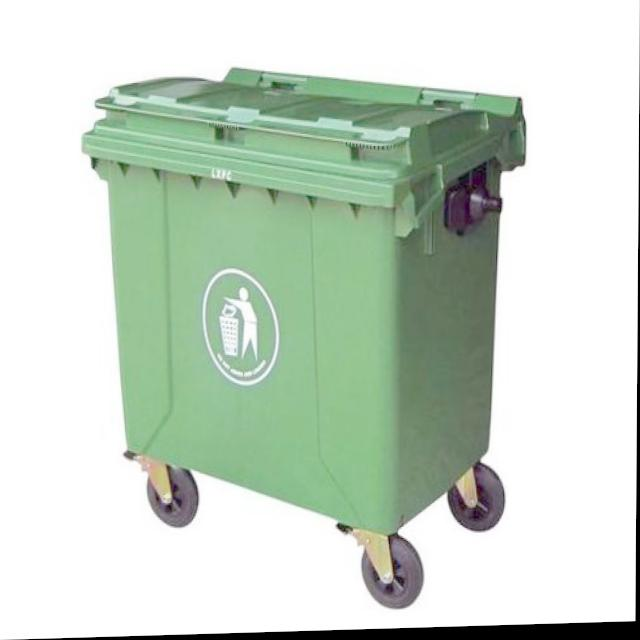garbage_bin: (79, 61, 526, 542)
